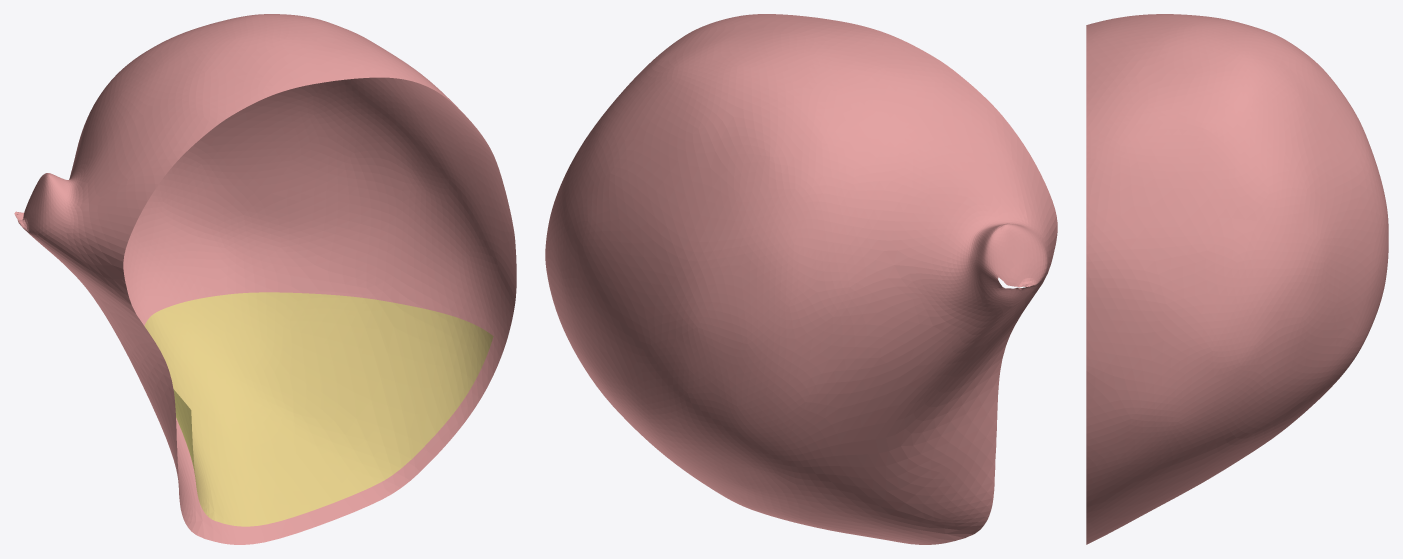
The model's file is stomaco_interno.glb.
3 renders of one model, left to right at view 1: azimuth 30°, elevation 25°; view 2: azimuth 150°, elevation 25°; view 3: azimuth 270°, elevation 25°, orthographic. The views are drawn at different scales.
Parts seen in each view (by area): view 1: stomach, gastric contents; view 2: stomach; view 3: stomach.
Boxes of the visible parts, left/top/right/bottom form: stomach: left=14, top=14, right=516, bottom=544; gastric contents: left=144, top=292, right=493, bottom=526; stomach: left=545, top=14, right=1057, bottom=544; stomach: left=1086, top=14, right=1388, bottom=544.
Size of the model in its own units: 97.94 by 99.12 by 56.2.
